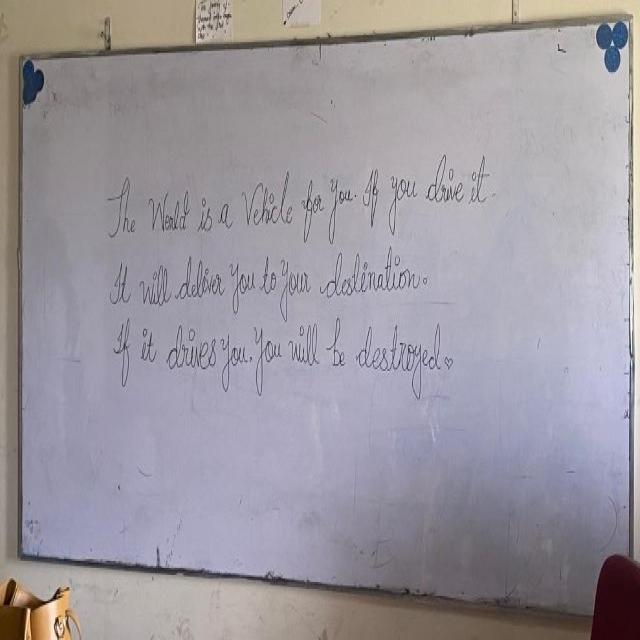White-board: (18, 18, 635, 618)
